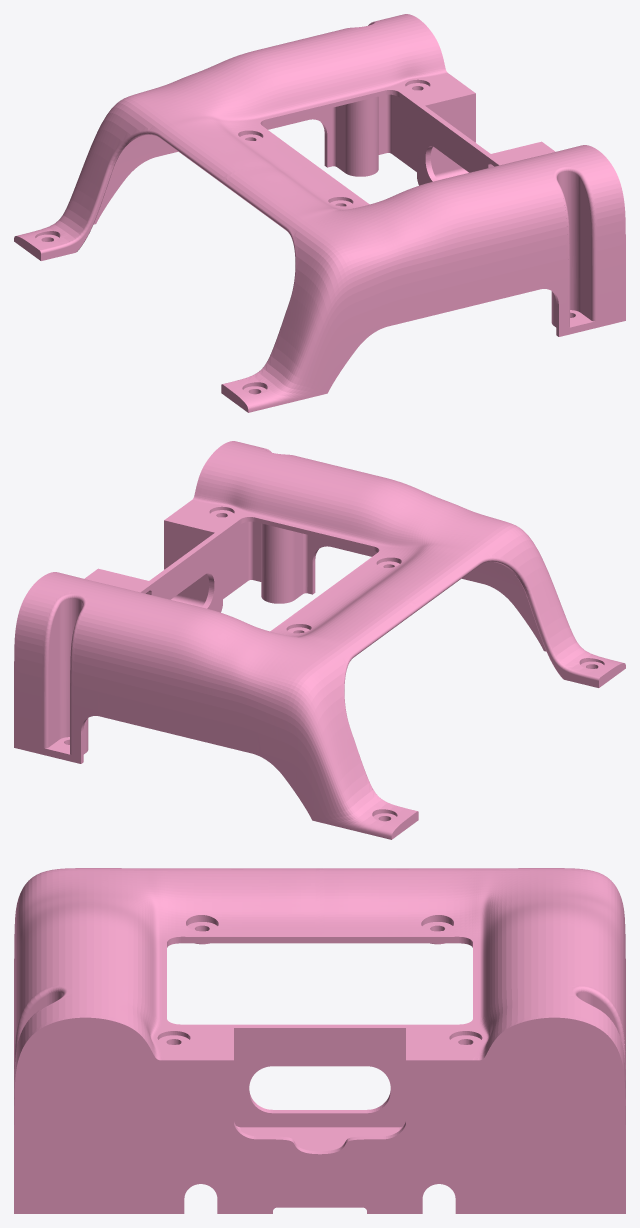
File: housing_body.dae
3 views of the same model, one above another, from view 1: azimuth 30°, elevation 25°; view 2: azimuth 150°, elevation 25°; view 3: azimuth 270°, elevation 25° (orthographic). The views are drawn at different scales.
Visible parts, largest first — view 1: housing_body; view 2: housing_body; view 3: housing_body.
Part boxes in pixels (box(x1,y1,x2,y2)): housing_body: box(14, 14, 625, 412); housing_body: box(14, 441, 625, 839); housing_body: box(14, 868, 625, 1213).
Size of the model in its own units: 0.121 by 0.13 by 0.046.
